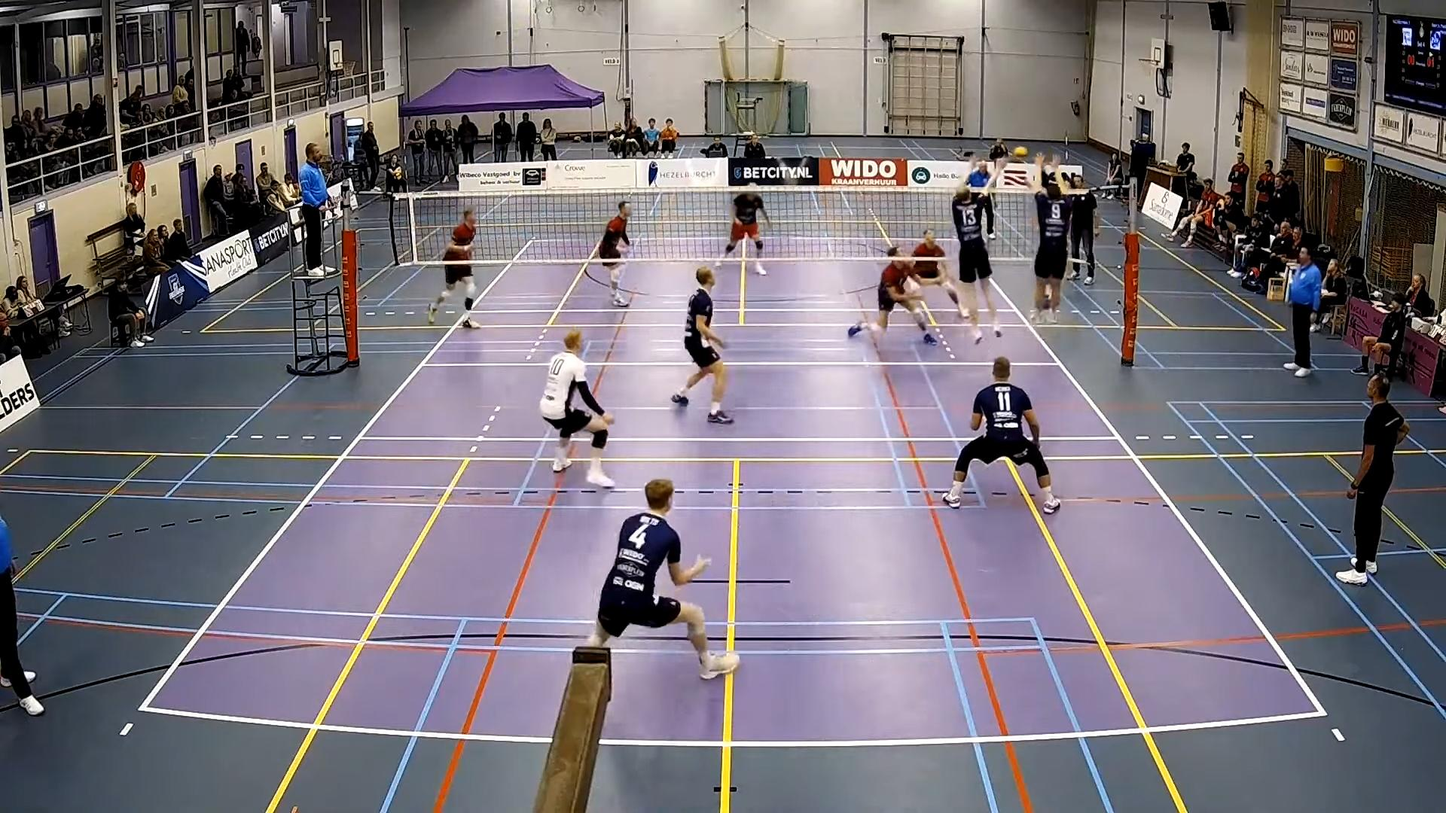muro: (1020, 151, 1096, 330), (943, 156, 1009, 340)
